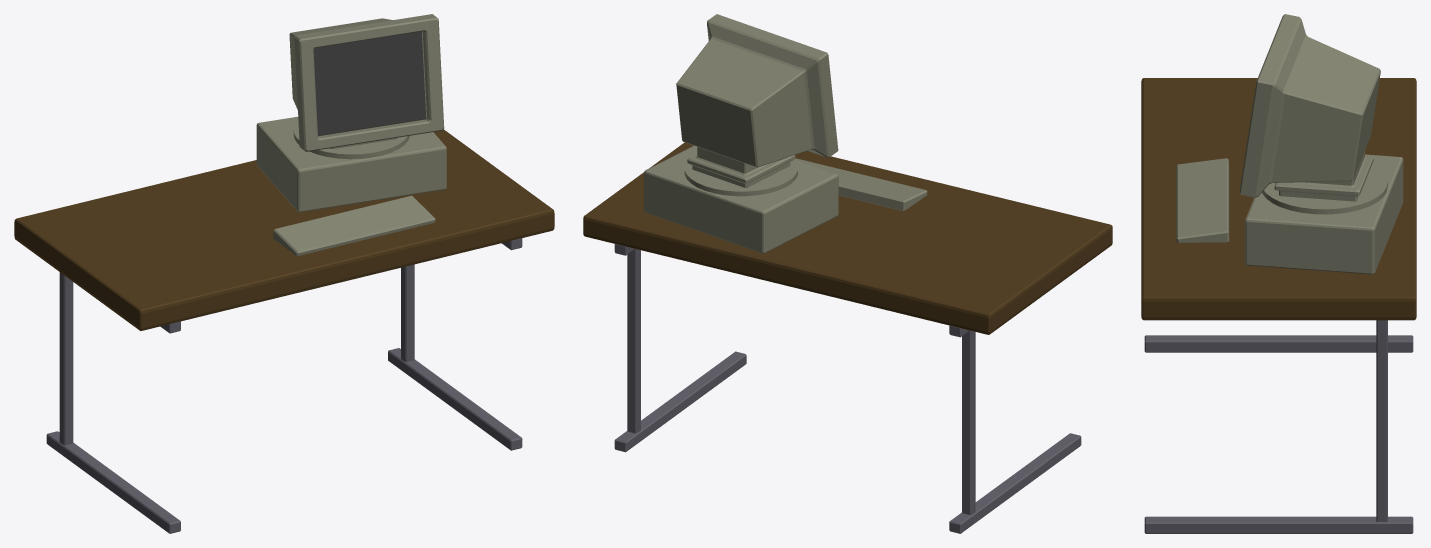
File: bureau.fbx
3 renders of one model, left to right at view 1: azimuth 30°, elevation 25°; view 2: azimuth 150°, elevation 25°; view 3: azimuth 270°, elevation 25°, orthographic. The views are drawn at different scales.
Parts seen in each view (by area): view 1: Cube, Cube.003, Cube.001, Cube.002, Cube.004, Cylinder; view 2: Cube, Cube.003, Cube.001, Cube.002, Cube.004, Cylinder; view 3: Cube, Cube.003, Cube.002, Cube.001, Cube.004, Cylinder.
Boxes of the visible parts, box(x1,y1,x2,y2) form: Cube: box(14, 130, 554, 330); Cube.003: box(289, 14, 444, 151); Cube.001: box(256, 116, 446, 212); Cube.002: box(46, 238, 522, 533); Cube.004: box(273, 195, 435, 255); Cylinder: box(293, 120, 409, 159); Cube: box(583, 142, 1112, 334); Cube.003: box(676, 14, 838, 187); Cube.001: box(644, 145, 838, 253); Cube.002: box(614, 244, 1081, 533); Cube.004: box(795, 158, 927, 211); Cylinder: box(684, 152, 797, 196); Cube: box(1141, 78, 1416, 320); Cube.003: box(1239, 14, 1380, 201); Cube.002: box(1144, 320, 1413, 533); Cube.001: box(1245, 154, 1403, 274); Cube.004: box(1176, 158, 1229, 242); Cylinder: box(1262, 165, 1387, 214).
Size of the model in its own units: 811 by 748 by 428.
